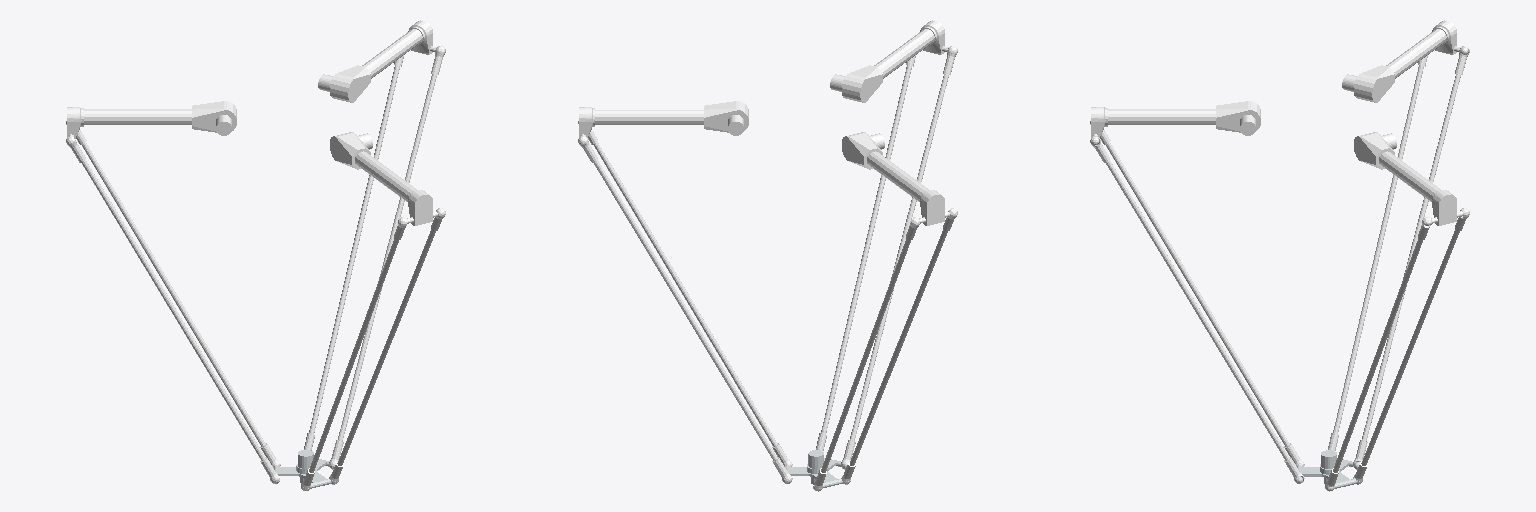
URDF robot description (delta):
<?xml version="1.0" encoding="utf-8"?>
<!-- This URDF was automatically created by SolidWorks to URDF Exporter! Originally created by [author] ([email redacted]) 
     Commit Version: 1.6.0-4-g7f85cfe  Build Version: 1.6.7995.38578
     For more information, please see http://wiki.ros.org/sw_urdf_exporter -->
<robot
  name="delta">
  <link name="world"/>
  <joint
    name="world_base_link"
    type="fixed">
    <parent
      link="world" />
    <child
      link="base_link" />
  </joint>
  <link
    name="base_link">
    <inertial>
      <origin
        xyz="0.380382316067151 -0.533525806735634 0.659302816292224"
        rpy="0 0 0" />
      <mass
        value="156.163072577183" />
      <inertia
        ixx="7.59889681143528"
        ixy="9.24660486508239E-05"
        ixz="-0.000259409545018871"
        iyy="7.59824264740178"
        iyz="0.000102275137498633"
        izz="10.3617884952824" />
    </inertial>
    <visual>
      <origin
        xyz="0 0 0"
        rpy="0 0 0" />
      <geometry>
        <mesh
          filename="package://delta/meshes/base_link.STL" />
      </geometry>
      <material
        name="">
        <color
          rgba="1 1 1 1" />
      </material>
    </visual>
    <collision>
      <origin
        xyz="0 0 0"
        rpy="0 0 0" />
      <geometry>
        <mesh
          filename="package://delta/meshes/base_link.STL" />
      </geometry>
    </collision>
  </link>
  <link
    name="arm1u_link">
    <inertial>
      <origin
        xyz="0.114792252146981 0.00182152585989626 0.0495423331065887"
        rpy="0 0 0" />
      <mass
        value="0.646884412038515" />
      <inertia
        ixx="0.000166776951356192"
        ixy="-0.000187543246495443"
        ixz="-4.04262175310576E-09"
        iyy="0.00675559133337473"
        iyz="6.15021017819242E-11"
        izz="0.00677709143476231" />
    </inertial>
    <visual>
      <origin
        xyz="0 0 0"
        rpy="0 0 0" />
      <geometry>
        <mesh
          filename="package://delta/meshes/arm1u_link.STL" />
      </geometry>
      <material
        name="">
        <color
          rgba="1 1 1 1" />
      </material>
    </visual>
    <collision>
      <origin
        xyz="0 0 0"
        rpy="0 0 0" />
      <geometry>
        <mesh
          filename="package://delta/meshes/arm1u_link.STL" />
      </geometry>
    </collision>
  </link>
  <joint
    name="arm1u_joint"
    type="revolute">
    <origin
      xyz="0.332874358144467 -0.683521580995339 0.398756986704061"
      rpy="-1.5707963267949 0 -1.5707963267949" />
    <parent
      link="base_link" />
    <child
      link="arm1u_link" />
    <axis
      xyz="0 0 1" />
    <limit
      lower="0"
      upper="3.1416"
      effort="0"
      velocity="0" />
  </joint>
  <link
    name="arm11_link">
    <inertial>
      <origin
        xyz="-0.0151005260811973 0.196287921564387 -0.336929572799235"
        rpy="0 0 0" />
      <mass
        value="0.127460758319217" />
      <inertia
        ixx="0.00814693140460583"
        ixy="-4.92928019985575E-05"
        ixz="9.05596189880381E-05"
        iyy="0.0062881494959543"
        iyz="0.0034190184061498"
        izz="0.00186356030148952" />
    </inertial>
    <visual>
      <origin
        xyz="0.0205 -0.005 -0.012"
        rpy="0 0 0" />
      <geometry>
        <mesh
          filename="package://delta/meshes/arm11_link.STL" />
      </geometry>
      <material
        name="">
        <color
          rgba="1 1 1 1" />
      </material>
    </visual>
    <collision>
      <origin
        xyz="0 0 0"
        rpy="0 0 0" />
      <geometry>
        <mesh
          filename="package://delta/meshes/arm11_link.STL" />
      </geometry>
    </collision>
  </link>
  <joint
    name="arm11_joint"
    type="revolute">
    <origin
      xyz="0.285 0.028 0.007"
      rpy="1.5708 -1.5708 0" />
    <parent
      link="arm1u_link" />
    <child
      link="arm11_link" />
    <axis
      xyz="1 0 0" />
    <limit
      lower="-1"
      upper="1"
      effort="0"
      velocity="0" />
  </joint>
  <link
    name="arm11_spider_link">
    <inertial>
      <origin
        xyz="0.016 0.0550000002696336 0.00234510079557038"
        rpy="0 0 0" />
      <mass
        value="0.207397112440021" />
      <inertia
        ixx="0.000172568881403432"
        ixy="-4.07679263921255E-19"
        ixz="-4.12890466512252E-20"
        iyy="0.00017256884108883"
        iyz="3.89811473984236E-13"
        izz="0.000277154102529209" />
    </inertial>
    <visual>
      <origin
        xyz="0.017 0 0.002"
        rpy="0 0 0" />
      <geometry>
        <mesh
          filename="package://delta/meshes/arm11_spider_link.STL" />
      </geometry>
      <material
        name="">
        <color
          rgba="0.898039215686275 0.917647058823529 0.929411764705882 1" />
      </material>
    </visual>
    <collision>
      <origin
        xyz="0 0 0"
        rpy="0 0 0" />
      <geometry>
        <mesh
          filename="package://delta/meshes/arm11_spider_link.STL" />
      </geometry>
    </collision>
  </link>
  <joint
    name="arm11_spider_joint"
    type="continuous">
    <origin
      xyz="0.01 0.38 -0.695"
      rpy="0 0 0" />
    <parent
      link="arm11_link" />
    <child
      link="arm11_spider_link" />
    <axis
      xyz="1 0 0" />
  </joint>
  <link
    name="arm12_link">
    <inertial>
      <origin
        xyz="0.0149009633527306 0.196209132849916 -0.33696955808221"
        rpy="0 0 0" />
      <mass
        value="0.127460758197968" />
      <inertia
        ixx="0.00814692981417886"
        ixy="4.92940499340967E-05"
        ixz="-9.05589094550425E-05"
        iyy="0.0062881507189424"
        iyz="0.00341901905662901"
        izz="0.00186356064655539" />
    </inertial>
    <visual>
      <origin
        xyz="-0.0205 -0.005 -0.012"
        rpy="0 0 0" />
      <geometry>
        <mesh
          filename="package://delta/meshes/arm12_link.STL" />
      </geometry>
      <material
        name="">
        <color
          rgba="1 1 1 1" />
      </material>
    </visual>
    <collision>
      <origin
        xyz="0 0 0"
        rpy="0 0 0" />
      <geometry>
        <mesh
          filename="package://delta/meshes/arm12_link.STL" />
      </geometry>
    </collision>
  </link>
  <joint
    name="arm12_joint"
    type="revolute">
    <origin
      xyz="0.285 0.028 0.088"
      rpy="1.5708 -1.5708 0" />
    <parent
      link="arm1u_link" />
    <child
      link="arm12_link" />
    <axis
      xyz="1 0 0" />
    <limit
      lower="-1"
      upper="1"
      effort="0"
      velocity="0" />
  </joint>
  <link
    name="arm2u_link">
    <inertial>
      <origin
        xyz="0.114792190956305 -0.00182152531048957 -0.0251673198673808"
        rpy="0 0 0" />
      <mass
        value="0.646883970811699" />
      <inertia
        ixx="0.000166776836705843"
        ixy="0.000187543268799503"
        ixz="3.21501578687261E-09"
        iyy="0.00675558779094133"
        iyz="3.68581727496335E-11"
        izz="0.00677708810261762" />
    </inertial>
    <visual>
      <origin
        xyz="0 0 0"
        rpy="0 0 0" />
      <geometry>
        <mesh
          filename="package://delta/meshes/arm2u_link.STL" />
      </geometry>
      <material
        name="">
        <color
          rgba="1 1 1 1" />
      </material>
    </visual>
    <collision>
      <origin
        xyz="0 0 0"
        rpy="0 0 0" />
      <geometry>
        <mesh
          filename="package://delta/meshes/arm2u_link.STL" />
      </geometry>
    </collision>
  </link>
  <joint
    name="arm2u_joint"
    type="revolute">
    <origin
      xyz="0.26203 -0.43849 0.39876"
      rpy="1.5708 0 2.618" />
    <parent
      link="base_link" />
    <child
      link="arm2u_link" />
    <axis
      xyz="0 0 1" />
    <limit
      lower="-3.1416"
      upper="0"
      effort="0"
      velocity="0" />
  </joint>
  <link
    name="arm21_link">
    <inertial>
      <origin
        xyz="-0.0149337877385725 0.196173393877676 -0.33698948069346"
        rpy="0 0 0" />
      <mass
        value="0.127460758272507" />
      <inertia
        ixx="0.00814690103546067"
        ixy="-4.92996198580384E-05"
        ixz="9.05557693323212E-05"
        iyy="0.00628817272220904"
        iyz="0.00341903127869353"
        izz="0.00186356743546608" />
    </inertial>
    <visual>
      <origin
        xyz="0.0205 -0.005 -0.012"
        rpy="0 0 0" />
      <geometry>
        <mesh
          filename="package://delta/meshes/arm21_link.STL" />
      </geometry>
      <material
        name="">
        <color
          rgba="1 1 1 1" />
      </material>
    </visual>
    <collision>
      <origin
        xyz="0 0 0"
        rpy="0 0 0" />
      <geometry>
        <mesh
          filename="package://delta/meshes/arm21_link.STL" />
      </geometry>
    </collision>
  </link>
  <joint
    name="arm21_joint"
    type="revolute">
    <origin
      xyz="0.285 -0.028 0.017375"
      rpy="-1.5708 1.5708 0" />
    <parent
      link="arm2u_link" />
    <child
      link="arm21_link" />
    <axis
      xyz="1 0 0" />
    <limit
      lower="-1"
      upper="1"
      effort="0"
      velocity="0" />
  </joint>
  <link
    name="arm22_link">
    <inertial>
      <origin
        xyz="0.0150335623413876 0.196158983361336 -0.336998756966697"
        rpy="0 0 0" />
      <mass
        value="0.127460758697646" />
      <inertia
        ixx="0.00814688379562211"
        ixy="4.92563063294823E-05"
        ixz="-9.05786464641641E-05"
        iyy="0.00628818562513337"
        iyz="0.00341903885912145"
        izz="0.00186357184839554" />
    </inertial>
    <visual>
      <origin
        xyz="-0.0205 -0.005 -0.012"
        rpy="0 0 0" />
      <geometry>
        <mesh
          filename="package://delta/meshes/arm22_link.STL" />
      </geometry>
      <material
        name="">
        <color
          rgba="1 1 1 1" />
      </material>
    </visual>
    <collision>
      <origin
        xyz="0 0 0"
        rpy="0 0 0" />
      <geometry>
        <mesh
          filename="package://delta/meshes/arm22_link.STL" />
      </geometry>
    </collision>
  </link>
  <joint
    name="arm22_joint"
    type="revolute">
    <origin
      xyz="0.285 -0.028 -0.063625"
      rpy="-1.5708 1.5708 0" />
    <parent
      link="arm2u_link" />
    <child
      link="arm22_link" />
    <axis
      xyz="1 0 0" />
    <limit
      lower="-1"
      upper="1"
      effort="0"
      velocity="0" />
  </joint>
  <link
    name="arm3u_link">
    <inertial>
      <origin
        xyz="0.114792221305797 -0.00182152765219995 0.184356660884915"
        rpy="0 0 0" />
      <mass
        value="0.646884127953808" />
      <inertia
        ixx="0.000166777031838413"
        ixy="0.000187543435284817"
        ixz="4.36611667900175E-09"
        iyy="0.00675559025398927"
        iyz="7.91226247931834E-11"
        izz="0.00677709036650217" />
    </inertial>
    <visual>
      <origin
        xyz="0 0 0"
        rpy="0 0 0" />
      <geometry>
        <mesh
          filename="package://delta/meshes/arm3u_link.STL" />
      </geometry>
      <material
        name="">
        <color
          rgba="1 1 1 1" />
      </material>
    </visual>
    <collision>
      <origin
        xyz="0 0 0"
        rpy="0 0 0" />
      <geometry>
        <mesh
          filename="package://delta/meshes/arm3u_link.STL" />
      </geometry>
    </collision>
  </link>
  <joint
    name="arm3u_joint"
    type="revolute">
    <origin
      xyz="0.417078668164106 -0.297095310806117 0.398756986704061"
      rpy="1.5707963267949 0 0.523598775598305" />
    <parent
      link="base_link" />
    <child
      link="arm3u_link" />
    <axis
      xyz="0 0 1" />
    <limit
      lower="-3.1416"
      upper="0"
      effort="0"
      velocity="0" />
  </joint>
  <link
    name="arm31_link">
    <inertial>
      <origin
        xyz="-0.0149753633398072 0.196343241690027 -0.336897668988324"
        rpy="0 0 0" />
      <mass
        value="0.127460758755479" />
      <inertia
        ixx="0.00814688104191047"
        ixy="-4.92603272500584E-05"
        ixz="9.05764137202415E-05"
        iyy="0.00628818782208854"
        iyz="0.00341903997839666"
        izz="0.00186357241522575" />
    </inertial>
    <visual>
      <origin
        xyz="0.0205 -0.005 -0.012"
        rpy="0 0 0" />
      <geometry>
        <mesh
          filename="package://delta/meshes/arm31_link.STL" />
      </geometry>
      <material
        name="">
        <color
          rgba="1 1 1 1" />
      </material>
    </visual>
    <collision>
      <origin
        xyz="0 0 0"
        rpy="0 0 0" />
      <geometry>
        <mesh
          filename="package://delta/meshes/arm31_link.STL" />
      </geometry>
    </collision>
  </link>
  <joint
    name="arm31_joint"
    type="revolute">
    <origin
      xyz="0.285 -0.028 0.2269"
      rpy="-1.5708 1.5708 0" />
    <parent
      link="arm3u_link" />
    <child
      link="arm31_link" />
    <axis
      xyz="1 0 0" />
    <limit
      lower="-1"
      upper="1"
      effort="0"
      velocity="0" />
  </joint>
  <link
    name="arm32_link">
    <inertial>
      <origin
        xyz="0.015109117469074 0.196251933598046 -0.33694927538221"
        rpy="0 0 0" />
      <mass
        value="0.127460758699228" />
      <inertia
        ixx="0.00814694099722032"
        ixy="4.9273743599918E-05"
        ixz="-9.05702265426356E-05"
        iyy="0.00628814155657333"
        iyz="0.00341901478439211"
        izz="0.0018635587153562" />
    </inertial>
    <visual>
      <origin
        xyz="-0.0205 -0.005 -0.012"
        rpy="0 0 0" />
      <geometry>
        <mesh
          filename="package://delta/meshes/arm32_link.STL" />
      </geometry>
      <material
        name="">
        <color
          rgba="1 1 1 1" />
      </material>
    </visual>
    <collision>
      <origin
        xyz="0 0 0"
        rpy="0 0 0" />
      <geometry>
        <mesh
          filename="package://delta/meshes/arm32_link.STL" />
      </geometry>
    </collision>
  </link>
  <joint
    name="arm32_joint"
    type="revolute">
    <origin
      xyz="0.285 -0.028 0.1459"
      rpy="-1.5708 1.5708 0" />
    <parent
      link="arm3u_link" />
    <child
      link="arm32_link" />
    <axis
      xyz="1 0 0" />
    <limit
      lower="-1"
      upper="1"
      effort="0"
      velocity="0" />
  </joint>
</robot>

--- What the picture shows (computed from the rendered views, not written in the file) ---
3 views of the same robot in one strip: view 1: azimuth 30°, elevation 25°; view 2: azimuth 150°, elevation 25°; view 3: azimuth 270°, elevation 25° (orthographic).
Robot: delta — 12 links, 11 joints (9 revolute, 1 continuous, 1 fixed); root link world; default pose: all joints at 0.
Links seen in each view (by area): view 1: arm2u_link, arm1u_link, arm3u_link, arm22_link, arm21_link, arm32_link, arm31_link, arm12_link, arm11_link, arm11_spider_link; view 2: arm3u_link, arm2u_link, arm1u_link, arm32_link, arm31_link, arm12_link, arm11_link, arm22_link, arm21_link, arm11_spider_link; view 3: arm1u_link, arm3u_link, arm2u_link, arm12_link, arm11_link, arm22_link, arm21_link, arm31_link, arm32_link, arm11_spider_link.
Link boxes in pixels (left/top/right/bottom): arm2u_link: left=67, top=101, right=236, bottom=138; arm1u_link: left=330, top=132, right=437, bottom=225; arm3u_link: left=318, top=20, right=436, bottom=102; arm22_link: left=66, top=136, right=279, bottom=483; arm21_link: left=66, top=121, right=280, bottom=467; arm32_link: left=304, top=37, right=403, bottom=450; arm31_link: left=329, top=46, right=445, bottom=469; arm12_link: left=329, top=208, right=445, bottom=484; arm11_link: left=301, top=217, right=407, bottom=490; arm11_spider_link: left=274, top=450, right=331, bottom=488; arm3u_link: left=579, top=101, right=748, bottom=137; arm2u_link: left=842, top=132, right=949, bottom=225; arm1u_link: left=830, top=20, right=948, bottom=102; arm32_link: left=578, top=136, right=792, bottom=483; arm31_link: left=578, top=121, right=792, bottom=466; arm12_link: left=816, top=55, right=915, bottom=450; arm11_link: left=841, top=46, right=957, bottom=469; arm22_link: left=841, top=208, right=957, bottom=484; arm21_link: left=813, top=217, right=920, bottom=491; arm11_spider_link: left=785, top=450, right=842, bottom=487; arm1u_link: left=1091, top=101, right=1260, bottom=144; arm3u_link: left=1354, top=132, right=1463, bottom=225; arm2u_link: left=1342, top=20, right=1468, bottom=102; arm12_link: left=1090, top=136, right=1304, bottom=483; arm11_link: left=1090, top=121, right=1304, bottom=466; arm22_link: left=1328, top=55, right=1427, bottom=450; arm21_link: left=1353, top=46, right=1469, bottom=468; arm31_link: left=1325, top=217, right=1431, bottom=489; arm32_link: left=1353, top=208, right=1469, bottom=483; arm11_spider_link: left=1296, top=450, right=1359, bottom=491.
Size in the robot's own frame: 0.8086 by 0.7033 by 0.776 metres.
10 mesh visuals loaded from 11 distinct referenced files (10 binary STL); not drawn: 1 (reference not matched to a file when rendering).